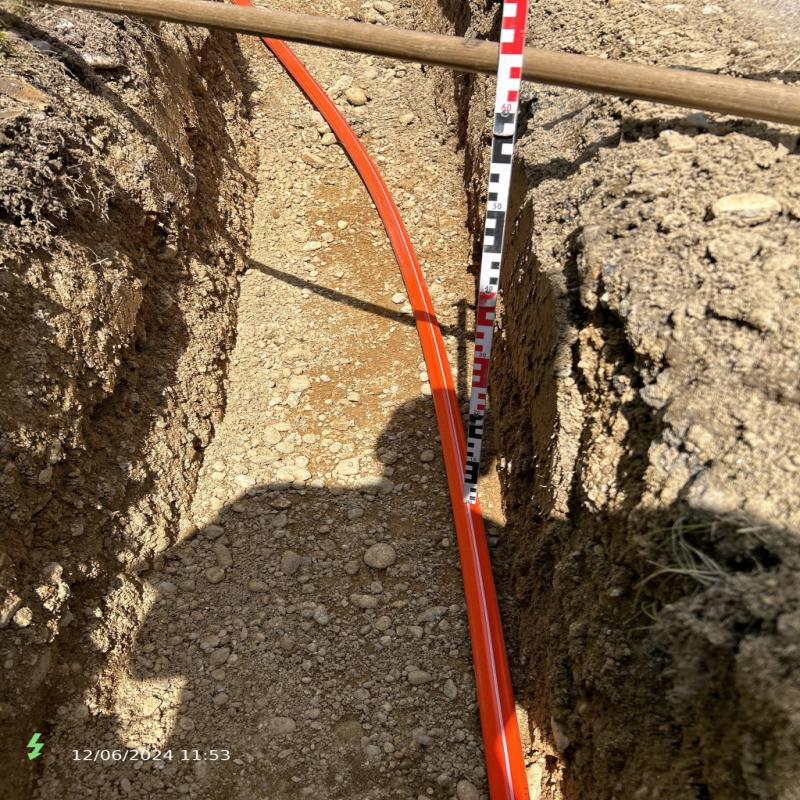Orang-Speednetrohrchen: (261, 42, 530, 798)
